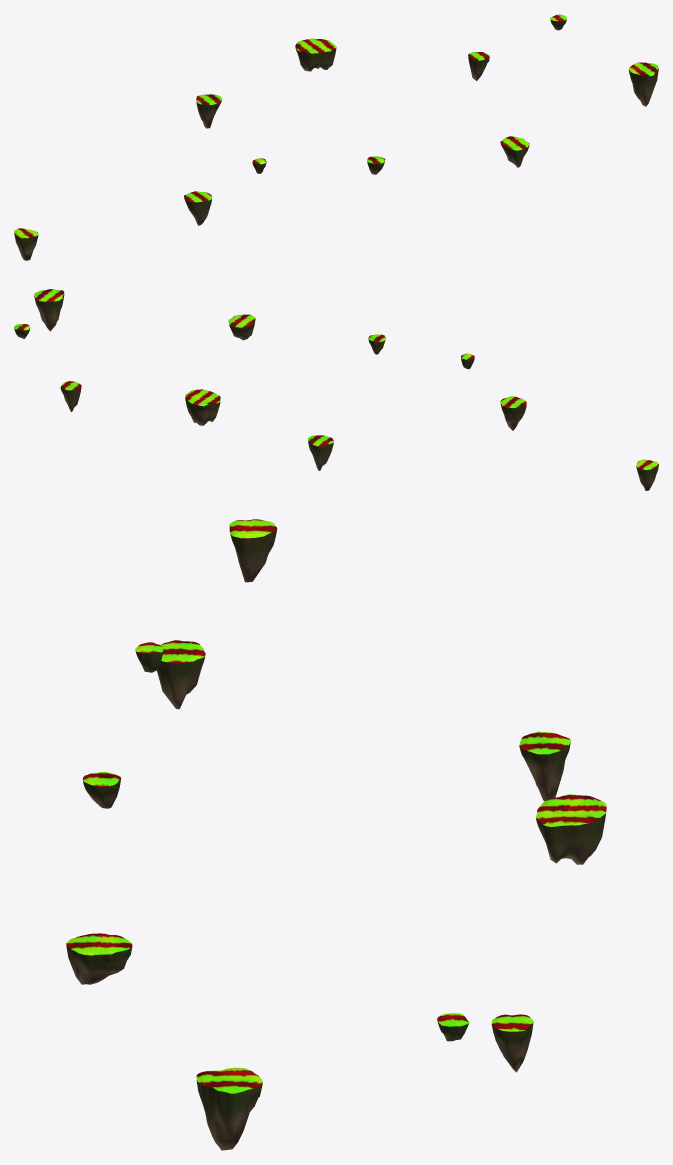
File: SM_H01_Floaters.fbx
3 views of the same model, one above another, from view 1: azimuth 30°, elevation 25°; view 2: azimuth 150°, elevation 25°; view 3: azimuth 270°, elevation 25° (orthographic). The views are drawn at different scales.
Parts seen in each view (by area): view 1: SM_H01_Floaters; view 2: SM_H01_Floaters; view 3: SM_H01_Floaters.
Part boxes in pixels (x1=…): SM_H01_Floaters: x1=14, y1=14, x2=658, y2=260; SM_H01_Floaters: x1=14, y1=289, x2=658, y2=490; SM_H01_Floaters: x1=66, y1=519, x2=606, y2=1150.
Bounding box in the file's own units: 643 × 65.47 × 241.
